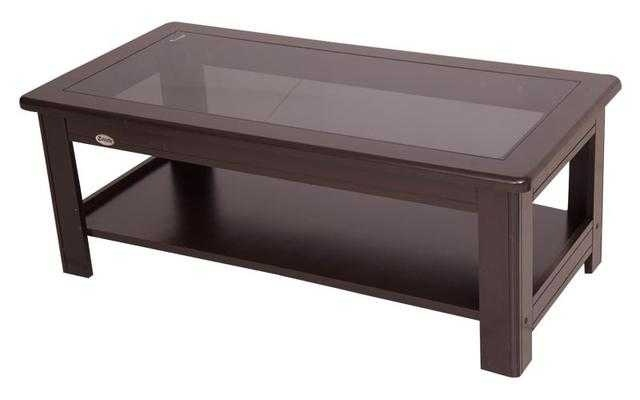obstacle: (20, 23, 619, 375)
